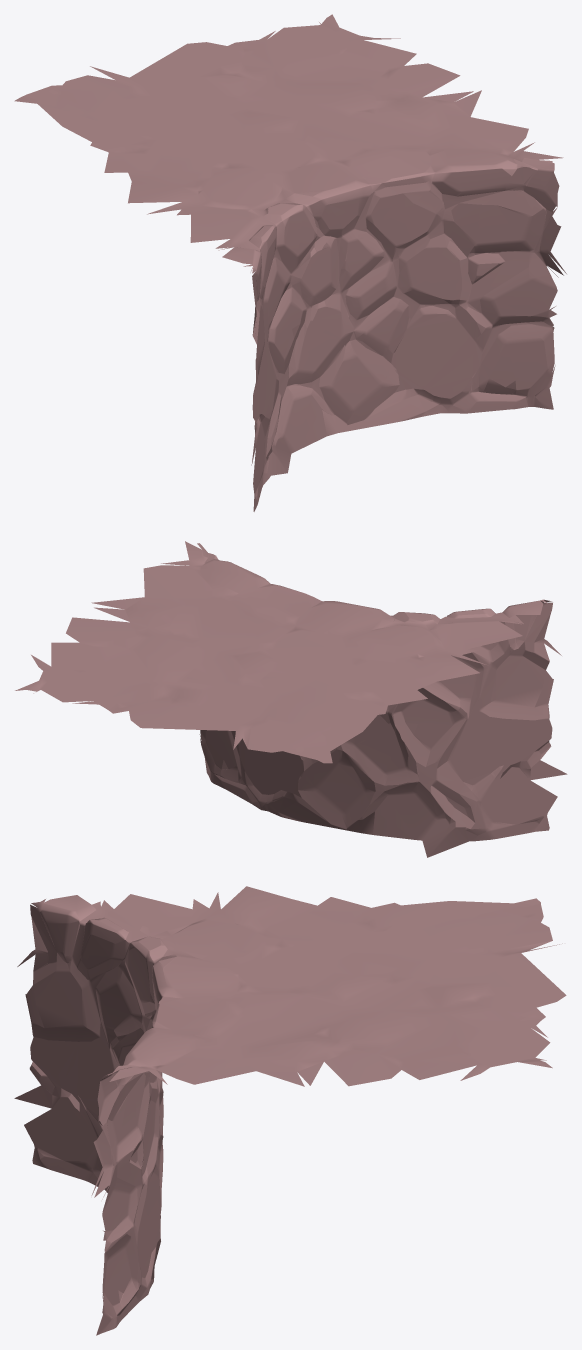
The model's file is pleateauArea1.fbx_PolyShape__46__013LODs.fbx.
3 renders of one model, top to bottom at view 1: azimuth 30°, elevation 25°; view 2: azimuth 150°, elevation 25°; view 3: azimuth 270°, elevation 25°, orthographic. The views are drawn at different scales.
Parts seen in each view (by area): view 1: PolyShape (46).013_LOD0; view 2: PolyShape (46).013_LOD0; view 3: PolyShape (46).013_LOD0.
Part boxes in pixels (<box>): PolyShape (46).013_LOD0: <box>14,14,566,511</box>; PolyShape (46).013_LOD0: <box>15,541,567,857</box>; PolyShape (46).013_LOD0: <box>14,886,566,1335</box>.
Size of what is drawn, in the model's own units: 6781 by 4426 by 7900.
